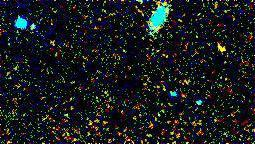star: (205, 35, 235, 65)
